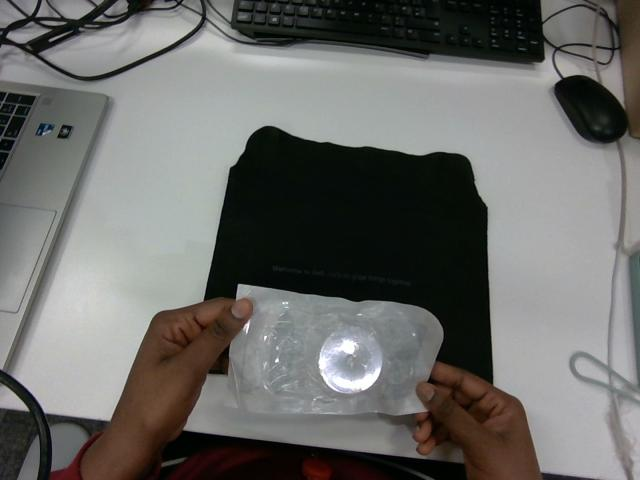gallipot: (229, 285, 442, 414)
